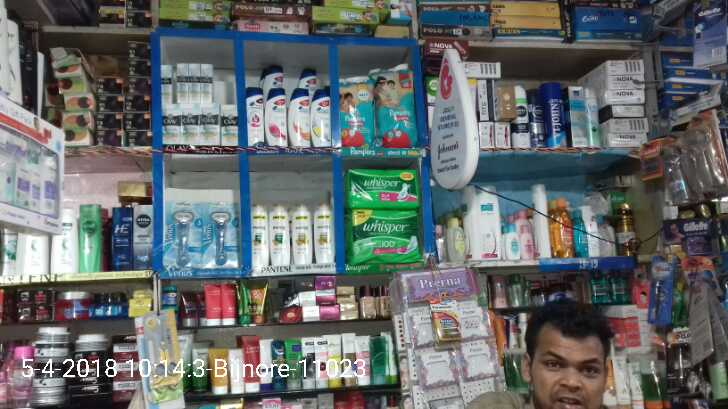gillete: (684, 124, 728, 187), (649, 256, 679, 325), (689, 202, 717, 254), (639, 142, 675, 181)
venus: (201, 201, 235, 266), (168, 202, 201, 266)
